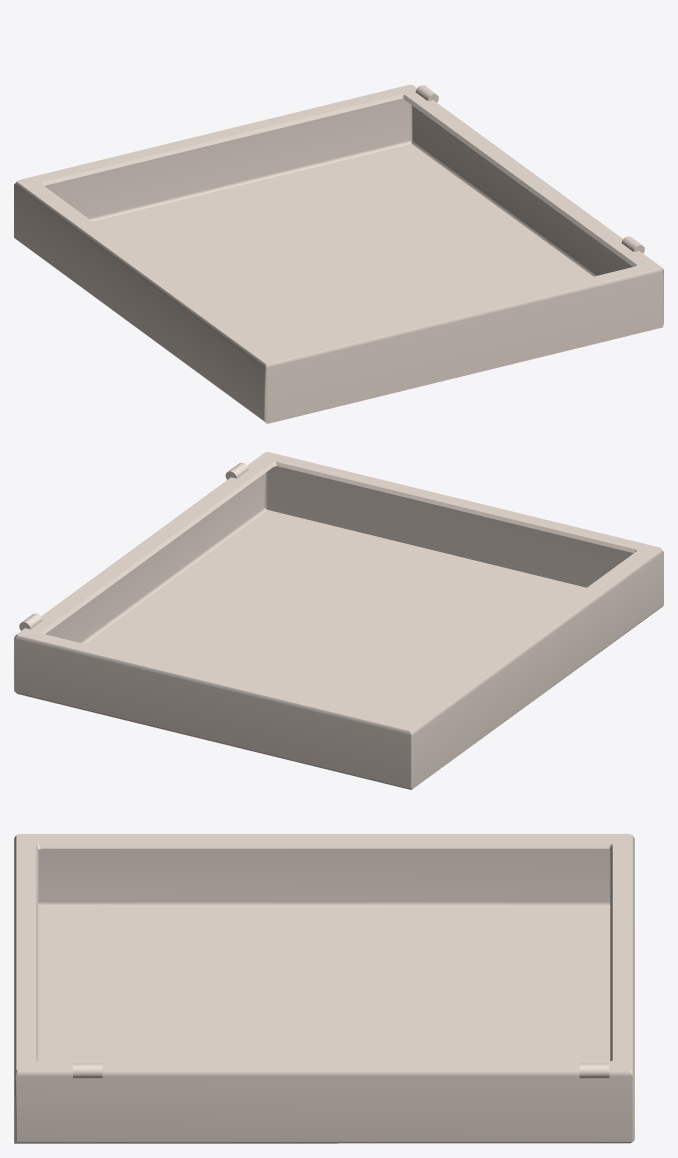
Rendered from MeshFridgeMaindoorB4_4_GeomSubset_0.obj.
3 renders of one model, top to bottom at view 1: azimuth 30°, elevation 25°; view 2: azimuth 150°, elevation 25°; view 3: azimuth 270°, elevation 25°, orthographic. The views are drawn at different scales.
Visible parts, largest first — view 1: MeshFridgeMaindoorB4_4_GeomSubset_0; view 2: MeshFridgeMaindoorB4_4_GeomSubset_0; view 3: MeshFridgeMaindoorB4_4_GeomSubset_0.
Part boxes in pixels (x1,y1,x2,y2): MeshFridgeMaindoorB4_4_GeomSubset_0: (14, 84, 663, 423); MeshFridgeMaindoorB4_4_GeomSubset_0: (14, 452, 663, 789); MeshFridgeMaindoorB4_4_GeomSubset_0: (14, 834, 634, 1143).
Size of the model in its own units: 1.06 by 0.4209 by 1.2.
